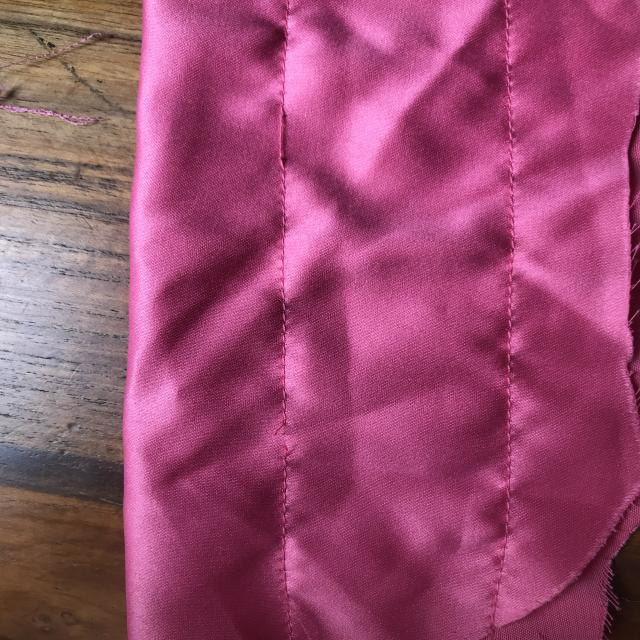broken: (253, 412, 308, 485)
good: (495, 252, 528, 336)
skip: (261, 88, 307, 176)
